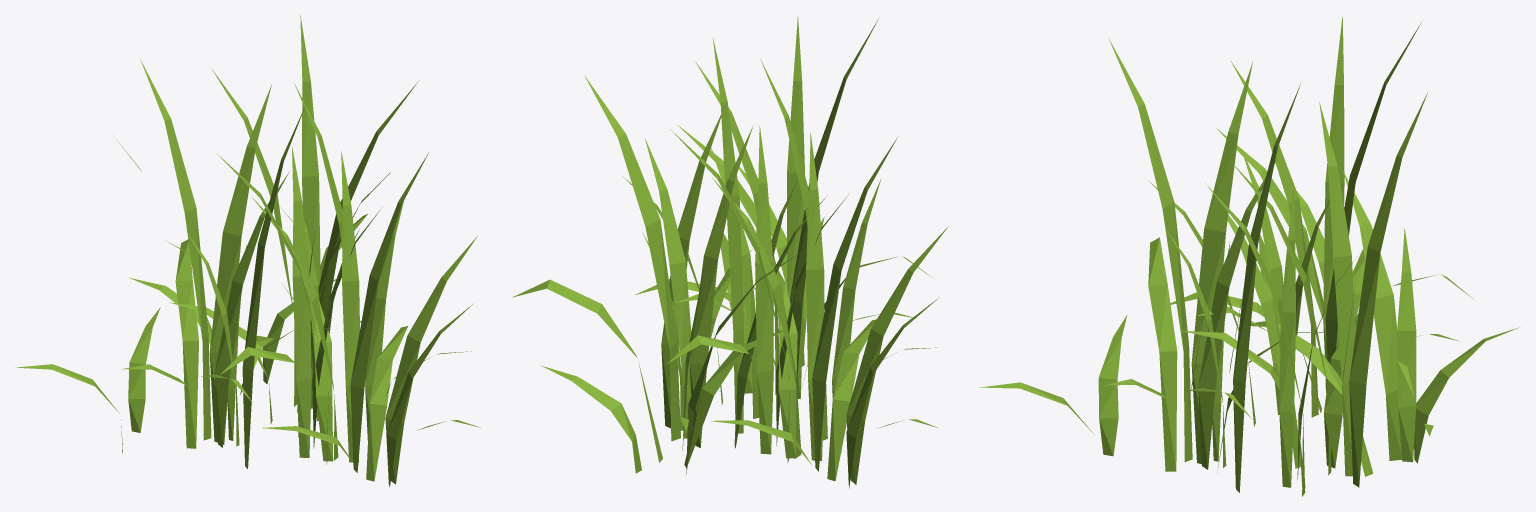
File: grass-middle-b.gltf
3 views of the same model, side by side, from view 1: azimuth 30°, elevation 25°; view 2: azimuth 150°, elevation 25°; view 3: azimuth 270°, elevation 25° (orthographic). The views are drawn at different scales.
Parts seen in each view (by area): view 1: grass-middle-b; view 2: grass-middle-b; view 3: grass-middle-b.
Boxes of the visible parts, x1,y1,x2,y2 form: grass-middle-b: (15, 15, 480, 487); grass-middle-b: (512, 16, 948, 488); grass-middle-b: (979, 16, 1519, 496).
Size of the model in its own units: 0.0098 by 0.00873 by 0.0105.
